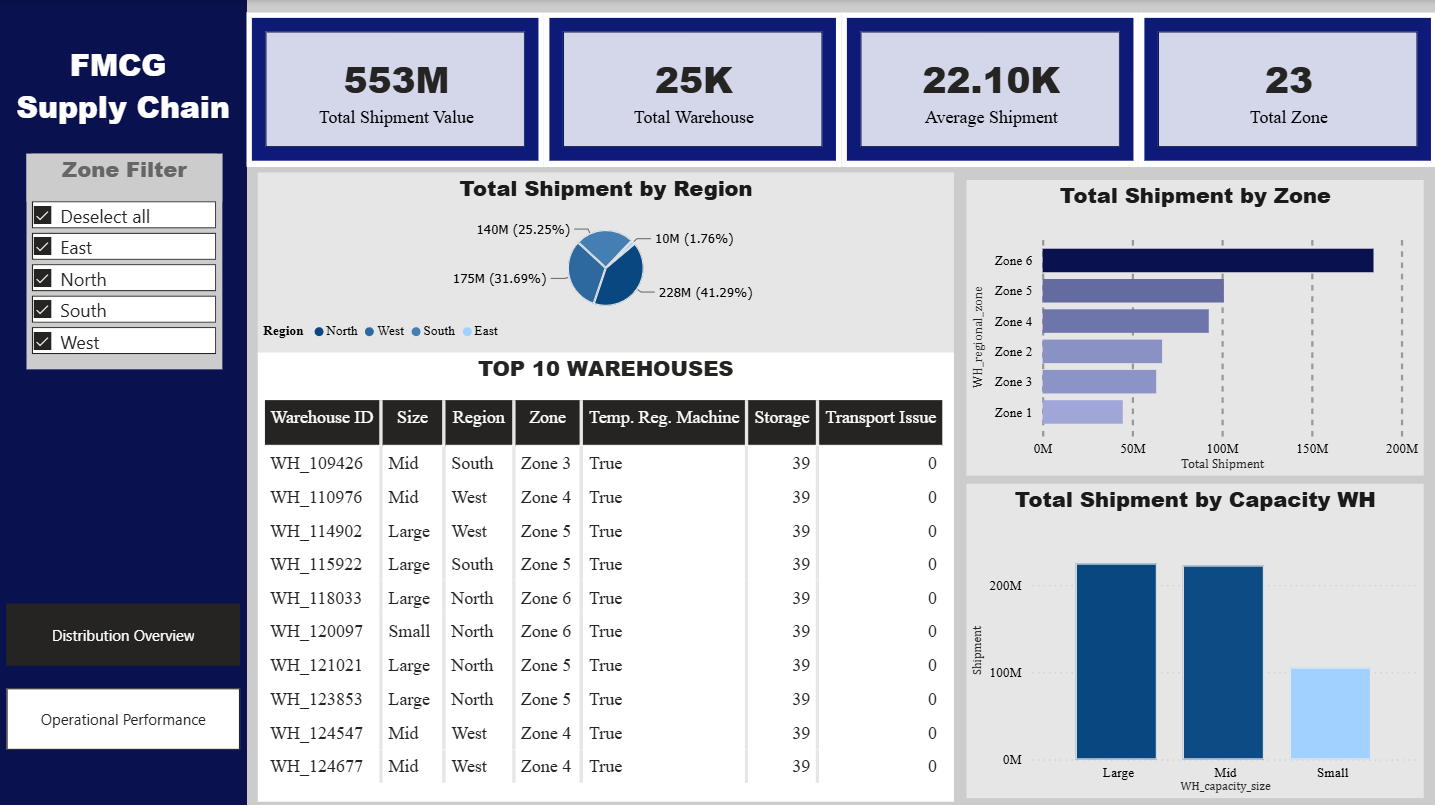

Layout of this report page (visuals, bound fields, positions):
{"tool":"powerbi","page":{"name":"Distribution Overview","canvas":[1280,720],"ordinal":0},"visuals":[{"type":"shape","box":[0,0,220.9,720.4],"z":0},{"type":"pieChart","title":"Total Shipment by Region","fields":{"Category":["Sheet1.zone"],"Y":["Sum(Sheet1.product_wg_ton)"]},"box":[230.5,153.7,620.2,160.5],"z":1000},{"type":"cardVisual","fields":{"Data":["Sum(Sheet1.product_wg_ton)"]},"box":[220.9,11,265,137.2],"z":2000},{"type":"cardVisual","fields":{"Data":["Sheet1.Total Warehouses"]},"box":[485.8,11,265,137.2],"z":3000},{"type":"cardVisual","fields":{"Data":["Sheet1.Average Shipment per Warehouse"]},"box":[750.6,11,265,137.2],"z":4000},{"type":"cardVisual","fields":{"Data":["Sheet1.Total Zone"]},"box":[1015.4,11,265,137.2],"z":5000},{"type":"clusteredBarChart","title":"Total Shipment by Zone","fields":{"Category":["Sheet1.WH_regional_zone"],"Y":["Sum(Sheet1.product_wg_ton)"]},"box":[861.8,160.5,407.5,263.5],"z":6000},{"type":"tableEx","title":"TOP 10 WAREHOUSES","fields":{"Values":["Sheet1.Ware_house_ID","Sheet1.WH_capacity_size","Sheet1.zone","Sheet1.WH_regional_zone","Sheet1.temp_reg_mach","Sheet1.storage_issue_reported_l3m","Sheet1.transport_issue_l1y"]},"box":[230.2,314,619.8,400],"z":7000},{"type":"clusteredColumnChart","title":"Total Shipment by Capacity WH","fields":{"Category":["Sheet1.WH_capacity_size"],"Y":["Sum(Sheet1.product_wg_ton)"]},"box":[861.8,430.9,407.5,279.9],"z":8000},{"type":"textbox","box":[0,32.9,220.9,91.9],"z":9000},{"type":"pageNavigator","box":[6.9,537.9,208.6,131.7],"z":10000},{"type":"actionButton","box":[290.7,570.9,208.6,54.9],"z":11000},{"type":"listSlicer","fields":{"Values":["Sheet1.zone"]},"box":[24.7,137.2,174.3,192.1],"z":13000}]}

Visuals, with their boxes in screenshot pixels (x1, y1, x2, y2), scaled from the page's 1280x720 canvas onto the 1435x805 screenshot:
shape: detection(0, 0, 248, 804)
"Total Shipment by Region" pieChart: detection(258, 172, 954, 351)
cardVisual - Sum(Sheet1.product_wg_ton): detection(248, 12, 545, 166)
cardVisual - Sheet1.Total Warehouses: detection(545, 12, 842, 166)
cardVisual - Sheet1.Average Shipment per Warehouse: detection(841, 12, 1139, 166)
cardVisual - Sheet1.Total Zone: detection(1138, 12, 1434, 166)
"Total Shipment by Zone" clusteredBarChart: detection(966, 179, 1423, 474)
"TOP 10 WAREHOUSES" tableEx: detection(258, 351, 953, 798)
"Total Shipment by Capacity WH" clusteredColumnChart: detection(966, 482, 1423, 795)
textbox: detection(0, 37, 248, 140)
pageNavigator: detection(8, 601, 242, 749)
actionButton: detection(326, 638, 560, 700)
listSlicer - Sheet1.zone: detection(28, 153, 223, 368)
